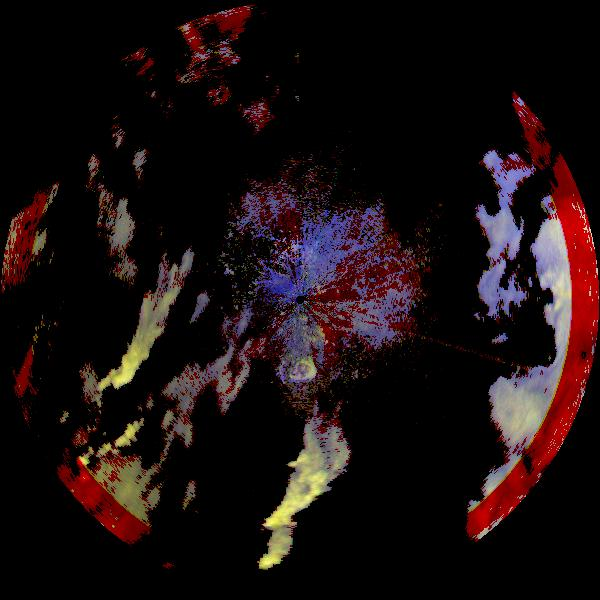roost: (286, 353, 322, 389)
